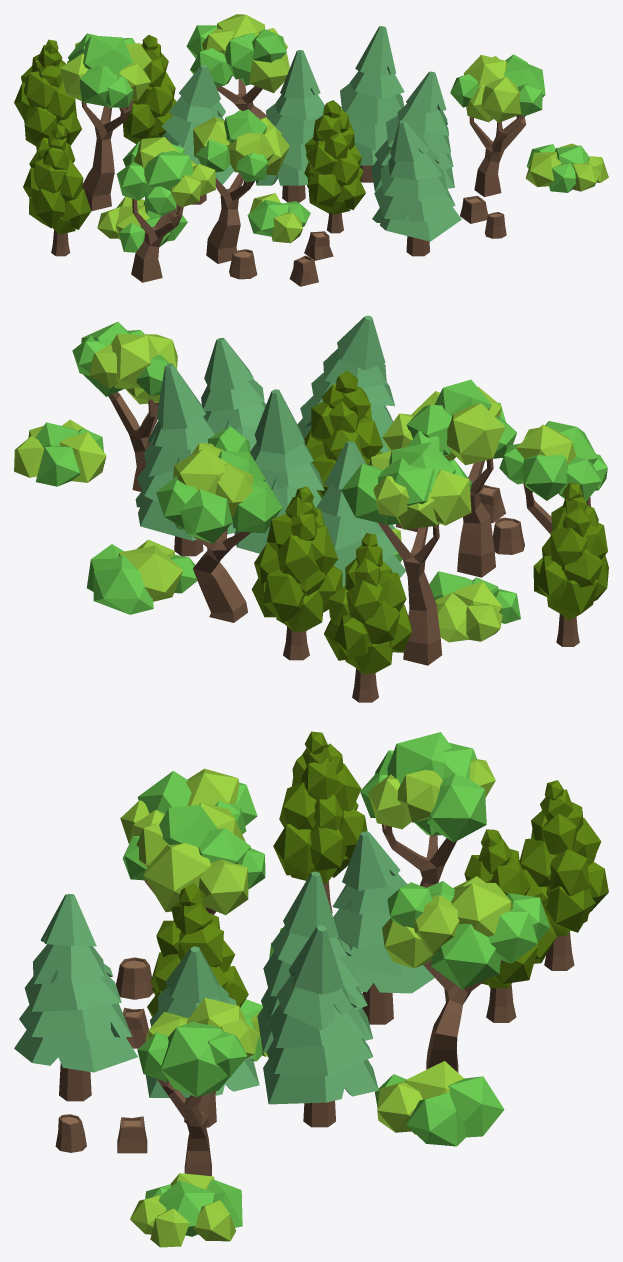
Rendered from Trees.fbx.
3 views of the same model, one above another, from view 1: azimuth 30°, elevation 25°; view 2: azimuth 150°, elevation 25°; view 3: azimuth 270°, elevation 25° (orthographic). The views are drawn at different scales.
Visible parts, largest first — view 1: Tree 1, Tree 4, Tree 2, Spruce 4, Tree 5, Tree 3, Cedar 3, Spruce 5, Cedar 4, Spruce 2, Cedar 1, Spruce 3 (+10 smaller); view 2: Tree 1, Tree 3, Tree 2, Cedar 2, Cedar 1, Cedar 4, Tree 5, Spruce 5, Tree 4, Bush 4, Spruce 2, Cedar 3 (+7 smaller); view 3: Tree 3, Spruce 4, Spruce 5, Tree 1, Tree 2, Tree 5, Cedar 4, Cedar 1, Spruce 1, Bush 4, Bush 3, Spruce 2 (+8 smaller).
Part boxes in pixels (x1=…): Tree 1: x1=60, y1=33, x2=151, y2=210; Tree 4: x1=116, y1=137, x2=215, y2=282; Tree 2: x1=193, y1=109, x2=289, y2=263; Spruce 4: x1=372, y1=120, x2=461, y2=256; Tree 5: x1=450, y1=54, x2=545, y2=197; Tree 3: x1=186, y1=14, x2=289, y2=118; Cedar 3: x1=304, y1=100, x2=365, y2=233; Spruce 5: x1=340, y1=26, x2=404, y2=182; Cedar 4: x1=23, y1=124, x2=91, y2=256; Spruce 2: x1=256, y1=50, x2=324, y2=202; Cedar 1: x1=14, y1=39, x2=81, y2=145; Spruce 3: x1=371, y1=71, x2=454, y2=191; Tree 1: x1=341, y1=442, x2=471, y2=665; Tree 3: x1=156, y1=426, x2=282, y2=622; Tree 2: x1=382, y1=379, x2=516, y2=577; Cedar 2: x1=251, y1=486, x2=342, y2=660; Cedar 1: x1=324, y1=533, x2=411, y2=702; Cedar 4: x1=533, y1=482, x2=608, y2=646; Tree 5: x1=72, y1=322, x2=177, y2=491; Spruce 5: x1=135, y1=363, x2=235, y2=556; Tree 4: x1=499, y1=421, x2=607, y2=533; Bush 4: x1=87, y1=539, x2=197, y2=614; Spruce 2: x1=232, y1=389, x2=324, y2=553; Cedar 3: x1=304, y1=370, x2=383, y2=498; Tree 3: x1=382, y1=876, x2=549, y2=1072; Spruce 4: x1=14, y1=894, x2=137, y2=1101; Spruce 5: x1=263, y1=925, x2=378, y2=1127; Tree 1: x1=360, y1=732, x2=495, y2=887; Tree 2: x1=122, y1=802, x2=265, y2=915; Tree 5: x1=137, y1=997, x2=258, y2=1176; Cedar 4: x1=273, y1=731, x2=367, y2=913; Cedar 1: x1=519, y1=780, x2=608, y2=970; Spruce 1: x1=332, y1=831, x2=434, y2=1024; Bush 4: x1=375, y1=1061, x2=504, y2=1146; Bush 3: x1=130, y1=1173, x2=242, y2=1247; Spruce 2: x1=257, y1=871, x2=372, y2=1052.
Size of the model in its own units: 1358 by 425 by 973.
